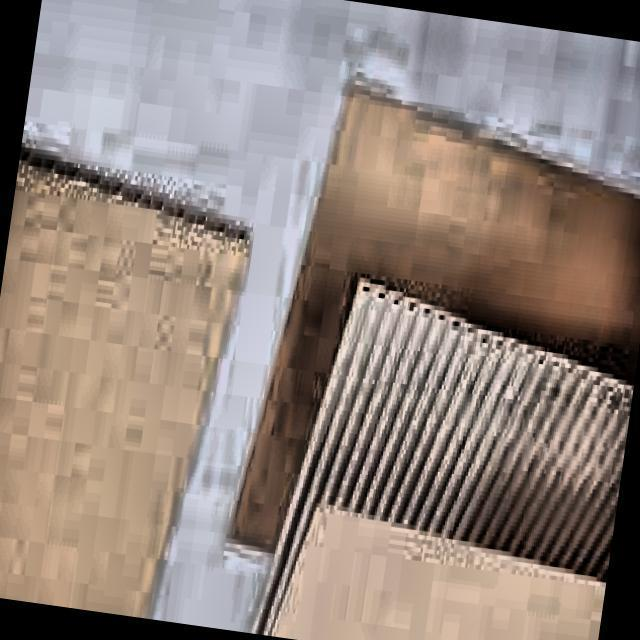cardboard: (220, 79, 640, 612), (246, 269, 640, 640), (0, 134, 261, 626)
